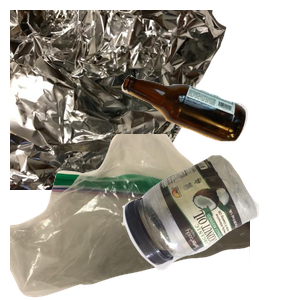glass: (119, 73, 300, 207)
metal: (10, 10, 229, 190)
plastic: (120, 152, 300, 300)
trash: (10, 134, 250, 300)
